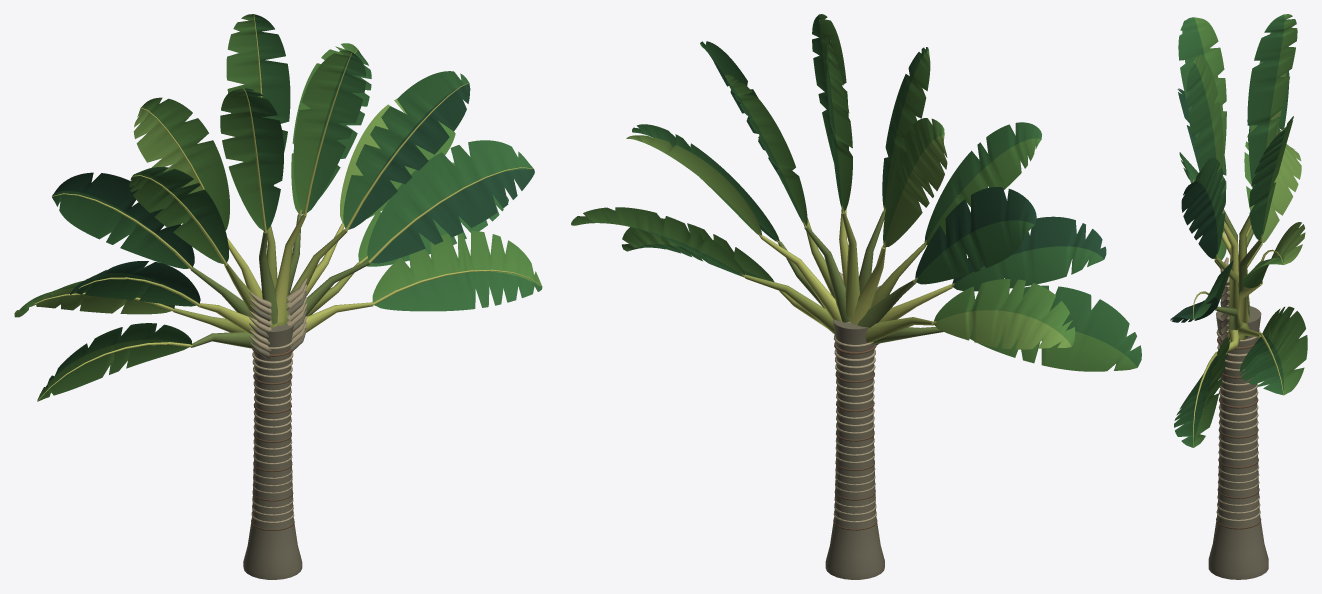
3 renders of one model, left to right at view 1: azimuth 30°, elevation 25°; view 2: azimuth 150°, elevation 25°; view 3: azimuth 270°, elevation 25°, orthographic. The views are drawn at different scales.
Visible parts, largest first — view 1: Fan Foliage, Fan Petioles, Trunk; view 2: Fan Foliage, Trunk, Fan Petioles; view 3: Fan Foliage, Trunk, Fan Petioles.
Part boxes in pixels (x1,y1,x2,y2): Fan Foliage: (14, 14, 542, 401); Fan Petioles: (34, 14, 542, 401); Trunk: (243, 278, 307, 579); Fan Foliage: (571, 14, 1141, 371); Trunk: (825, 272, 889, 579); Fan Petioles: (627, 40, 954, 344); Fan Foliage: (1170, 14, 1307, 447); Trunk: (1208, 257, 1268, 579); Fan Petioles: (1193, 14, 1283, 447).
Bounding box in the file's own units: 7.07 × 7.04 × 1.58.
